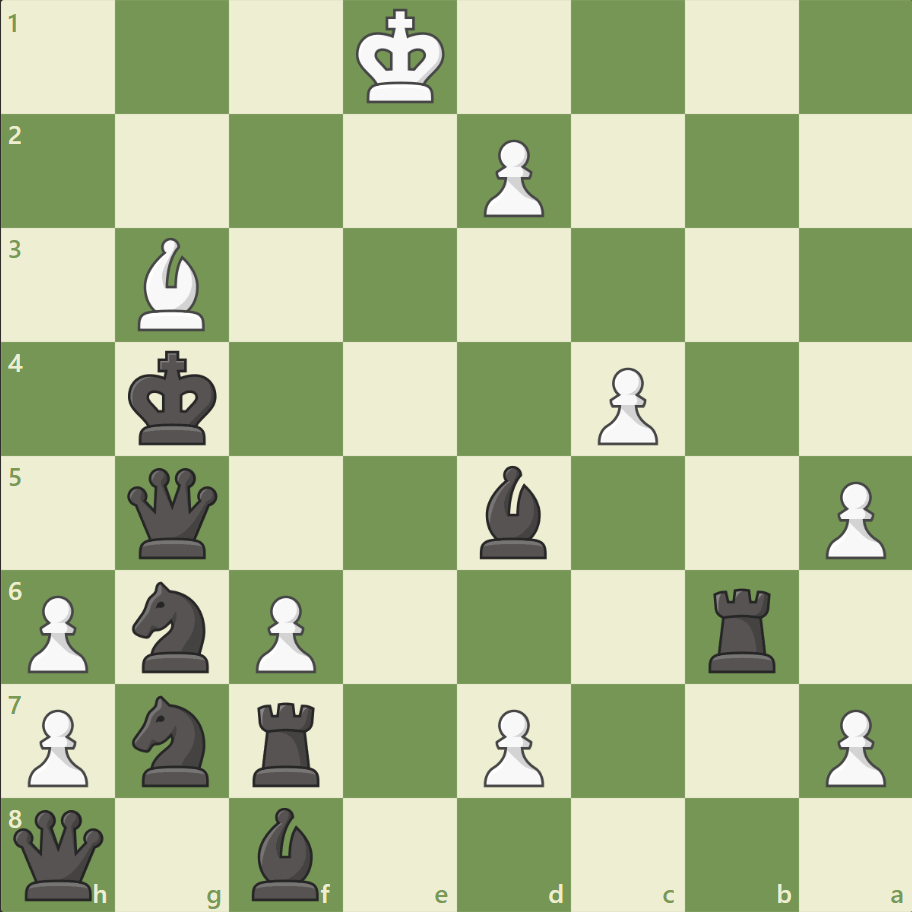B: (131, 233, 215, 336)
K: (351, 4, 451, 112)
P: (474, 700, 549, 791), (20, 700, 95, 791), (247, 586, 322, 677), (20, 586, 95, 677), (474, 132, 549, 223), (815, 700, 889, 791), (815, 473, 889, 564), (588, 359, 662, 450)
b: (244, 801, 328, 904), (471, 460, 555, 563)
k: (124, 344, 224, 452)
n: (124, 688, 222, 791), (124, 575, 222, 677)
q: (10, 804, 109, 903), (124, 463, 223, 562)
r: (246, 693, 329, 790), (700, 579, 783, 676)
